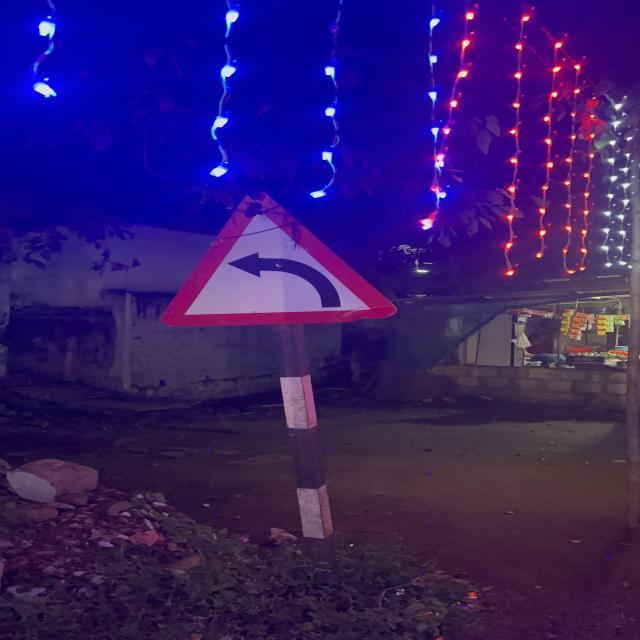left hand curve: (163, 184, 397, 323)
